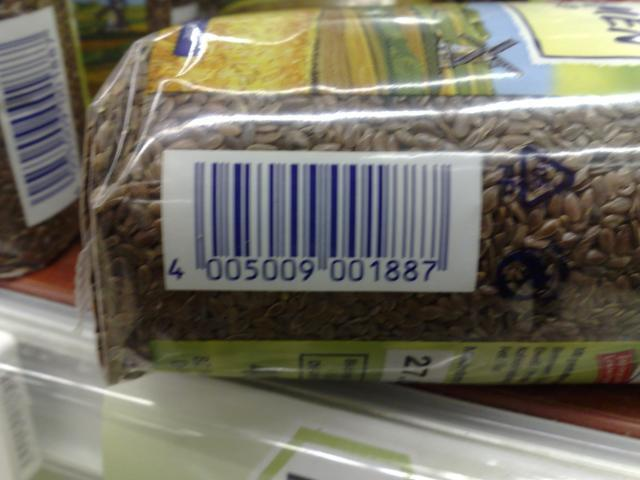Barcode: (164, 159, 457, 287)
